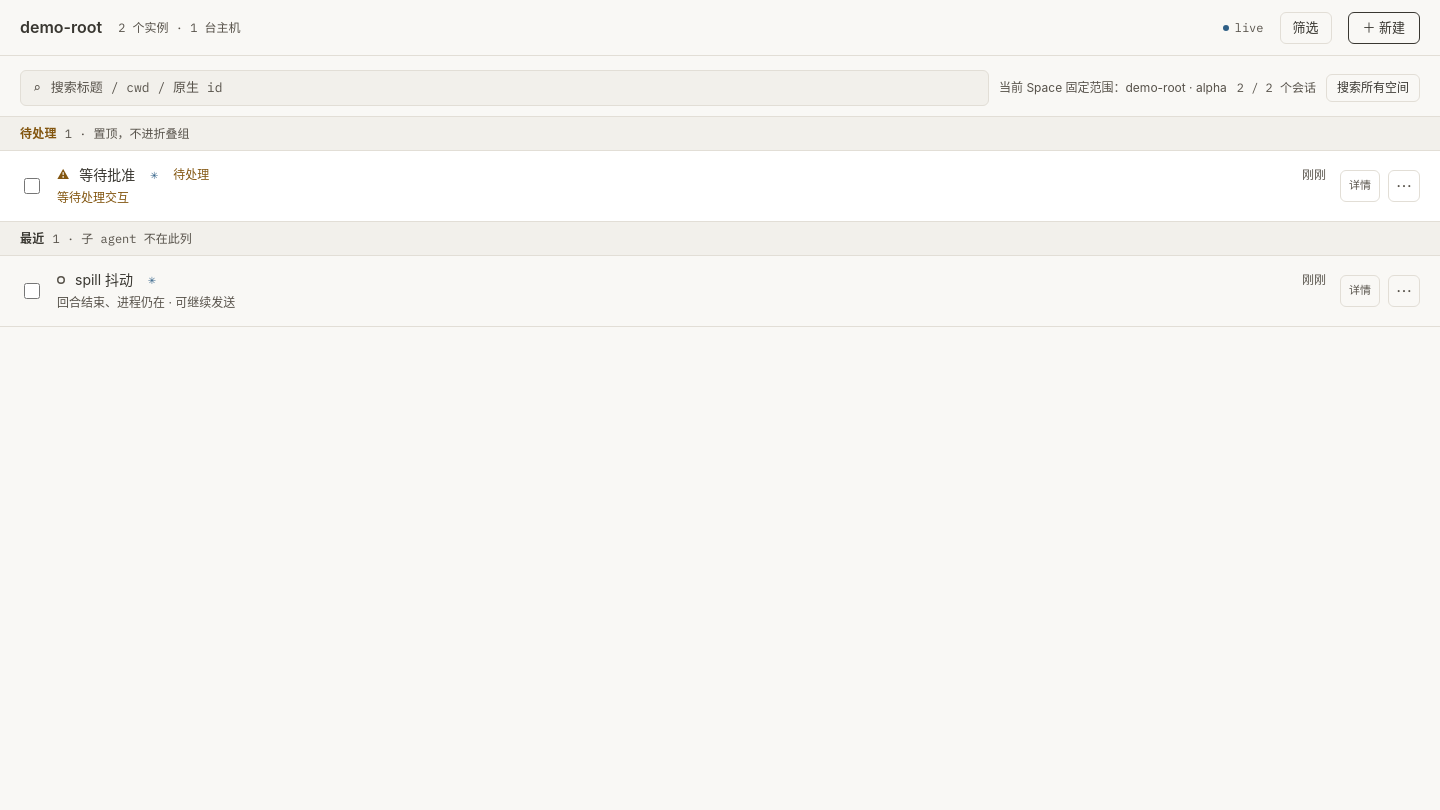
Test: SessionList rows: next step, wire disclosure and overflow sheet › keeps send/keys/stop testids inside the overflow sheet, which opens and closes
The image size is (1440, 810).
Click the button with test id "board-more" in the row of "等待批准".
click(1404, 186)  # box [1388, 170, 1420, 202]
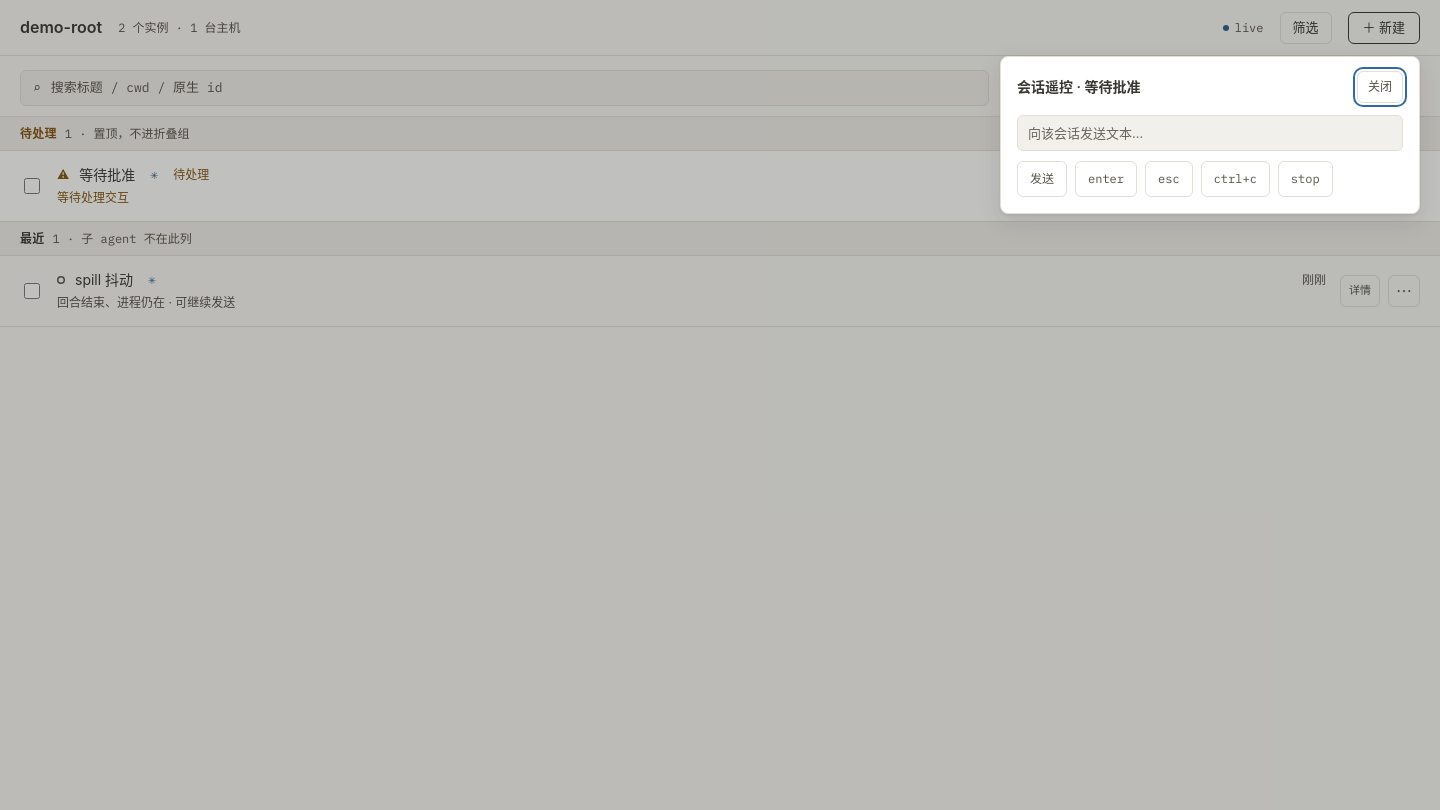
expect the dialog with test id "board-actions-panel" is shown: met, box [1000, 56, 1420, 214]
expect the field with test id "board-prompt" is shown: met, box [1017, 115, 1403, 151]
expect the button with test id "board-send" is shown: met, box [1017, 161, 1067, 197]
Note: Keys stay in the open sheet for rapid presses and still reach the store.
Click the button with test id "board-key-esc".
click(1169, 179)  # box [1145, 161, 1193, 197]
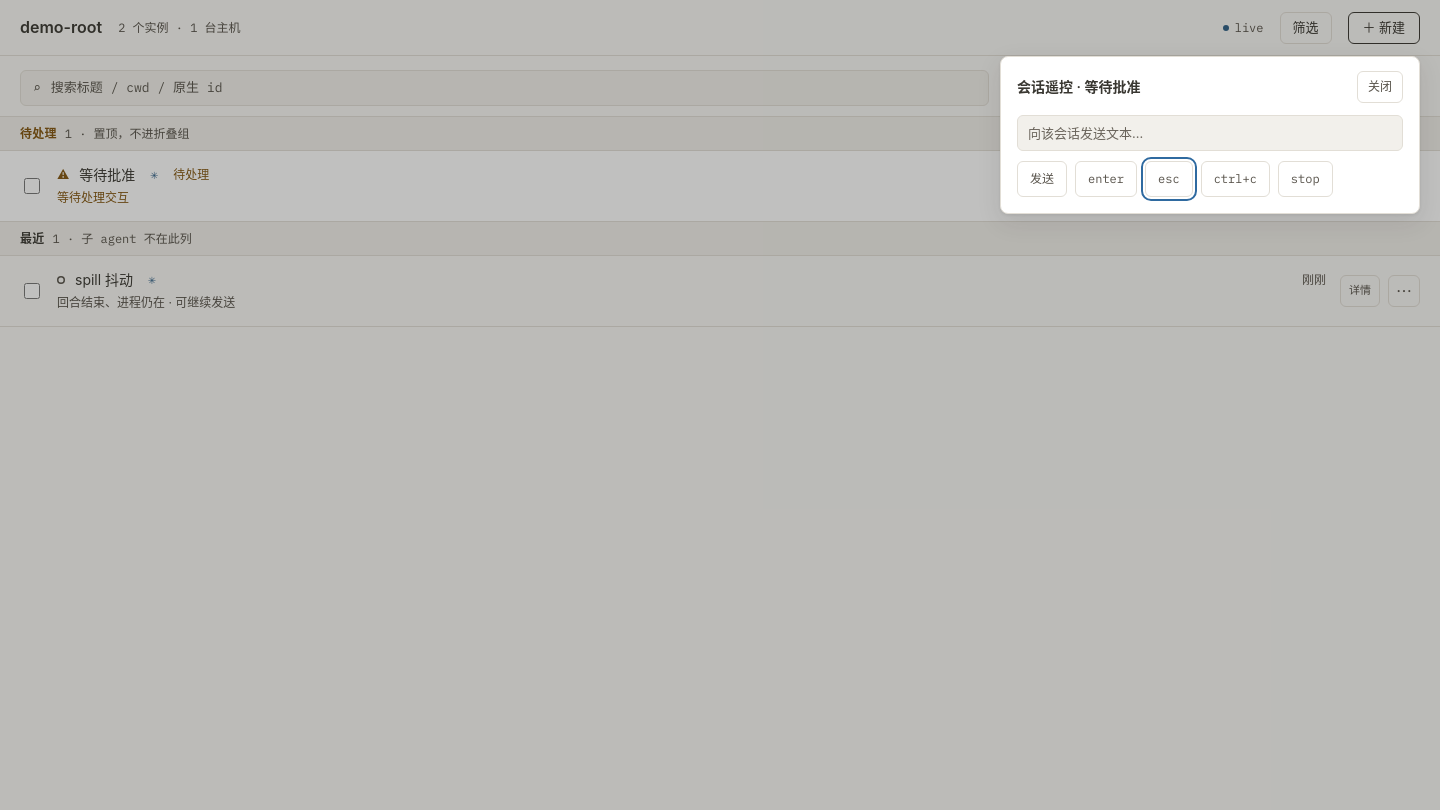
expect the dialog with test id "board-actions-panel" is shown: met, box [1000, 56, 1420, 214]
Note: Escape closes and focus returns to the row trigger.
Press Escape
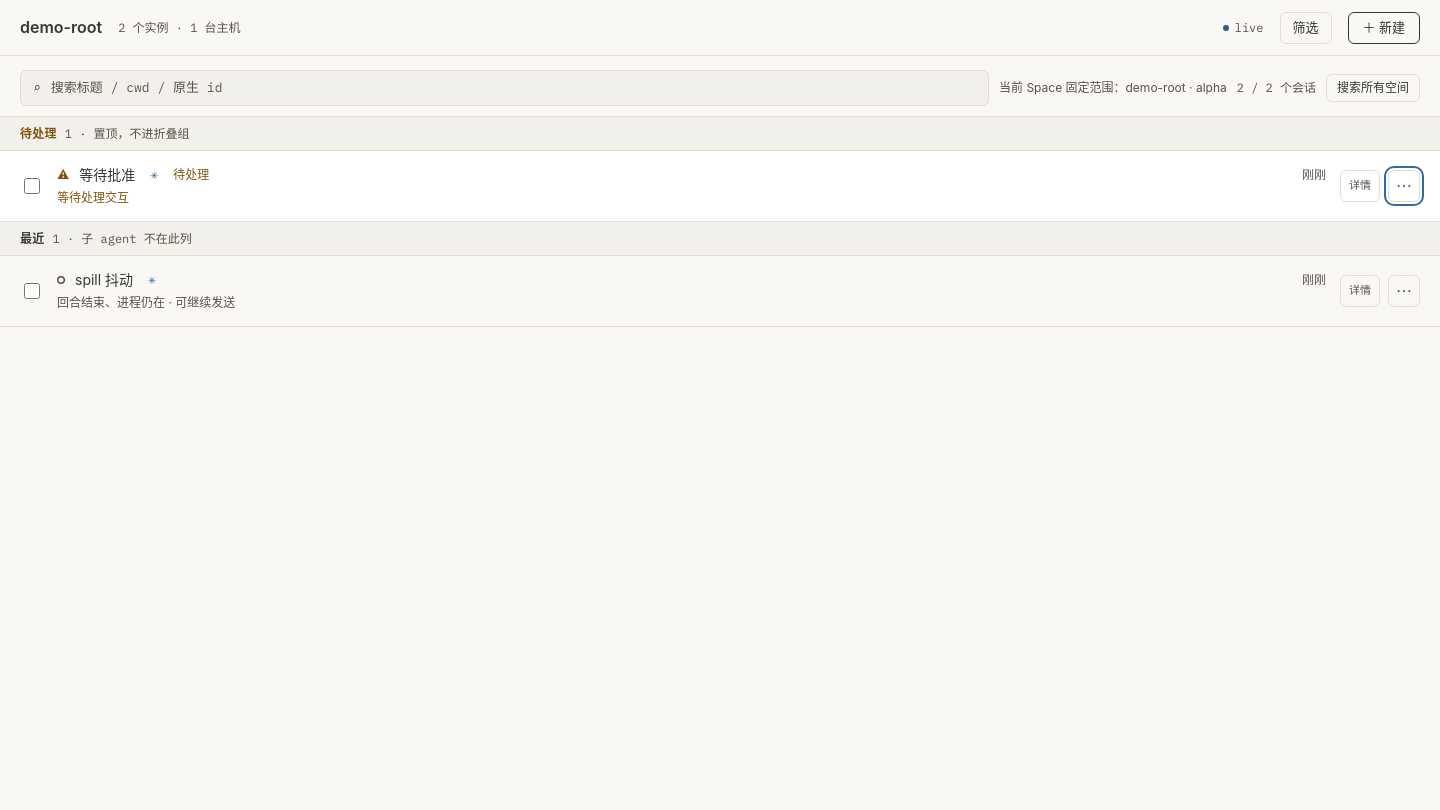
expect the dialog with test id "board-actions-panel" is gone: met
